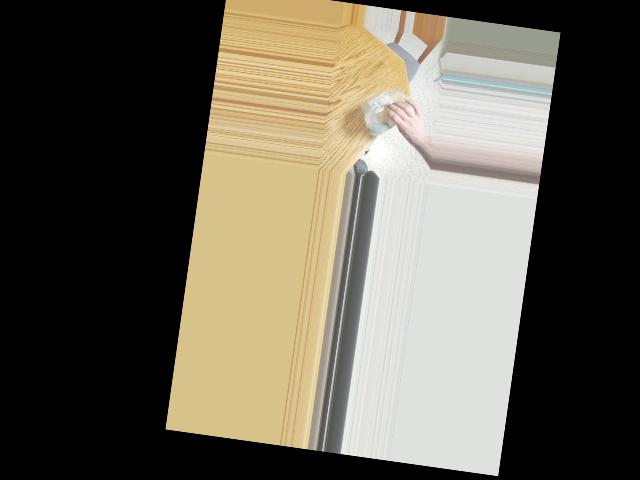cheese: (356, 81, 421, 134)
